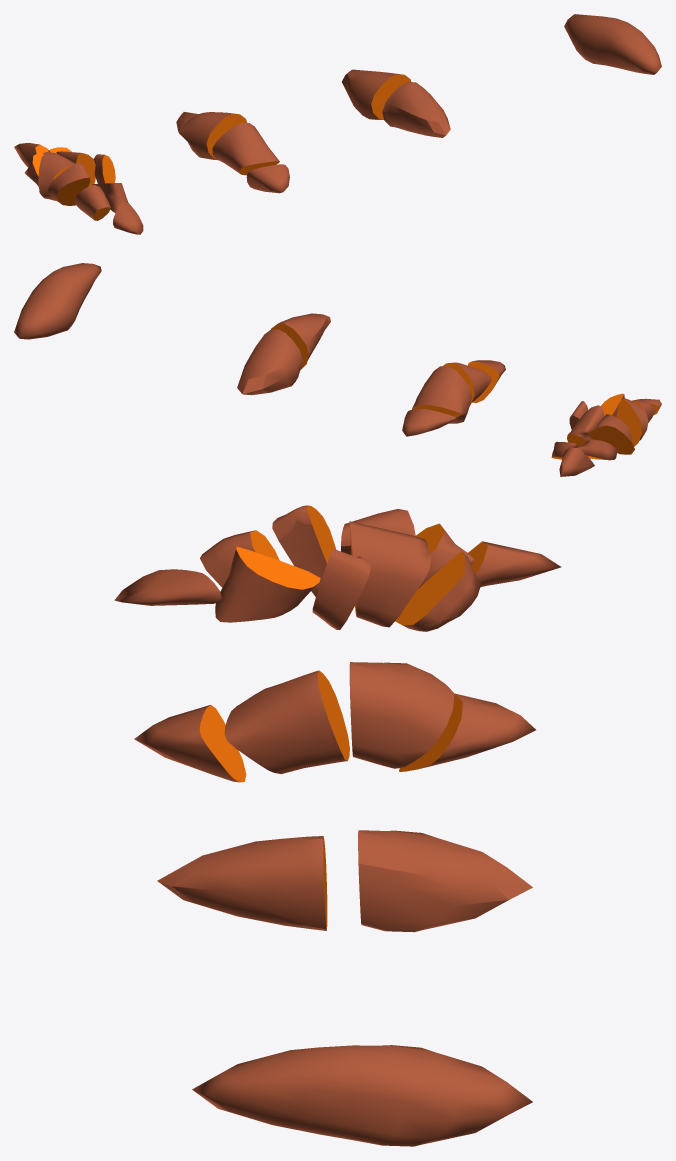
File: sweet_potato.fbx
3 renders of one model, top to bottom at view 1: azimuth 30°, elevation 25°; view 2: azimuth 150°, elevation 25°; view 3: azimuth 270°, elevation 25°, orthographic. The views are drawn at different scales.
Visible parts, largest first — view 1: SweetPotatoSlice4, SweetPotatoSlice3, SweetPotatoSlice2, SweetPotatoSlice1; view 2: SweetPotatoSlice4, SweetPotatoSlice3, SweetPotatoSlice2, SweetPotatoSlice1; view 3: SweetPotatoSlice4, SweetPotatoSlice3, SweetPotatoSlice2, SweetPotatoSlice1.
Part boxes in pixels (bbox=[...]): SweetPotatoSlice4: bbox=[14, 143, 143, 234]; SweetPotatoSlice3: bbox=[176, 112, 289, 193]; SweetPotatoSlice2: bbox=[342, 69, 450, 137]; SweetPotatoSlice1: bbox=[564, 14, 661, 74]; SweetPotatoSlice4: bbox=[551, 393, 661, 476]; SweetPotatoSlice3: bbox=[402, 360, 505, 436]; SweetPotatoSlice2: bbox=[237, 313, 330, 395]; SweetPotatoSlice1: bbox=[14, 263, 101, 339]; SweetPotatoSlice4: bbox=[114, 505, 561, 631]; SweetPotatoSlice3: bbox=[134, 662, 535, 782]; SweetPotatoSlice2: bbox=[157, 830, 532, 932]; SweetPotatoSlice1: bbox=[192, 1045, 532, 1146].
Size of the model in its own units: 342 by 30.82 by 111.
